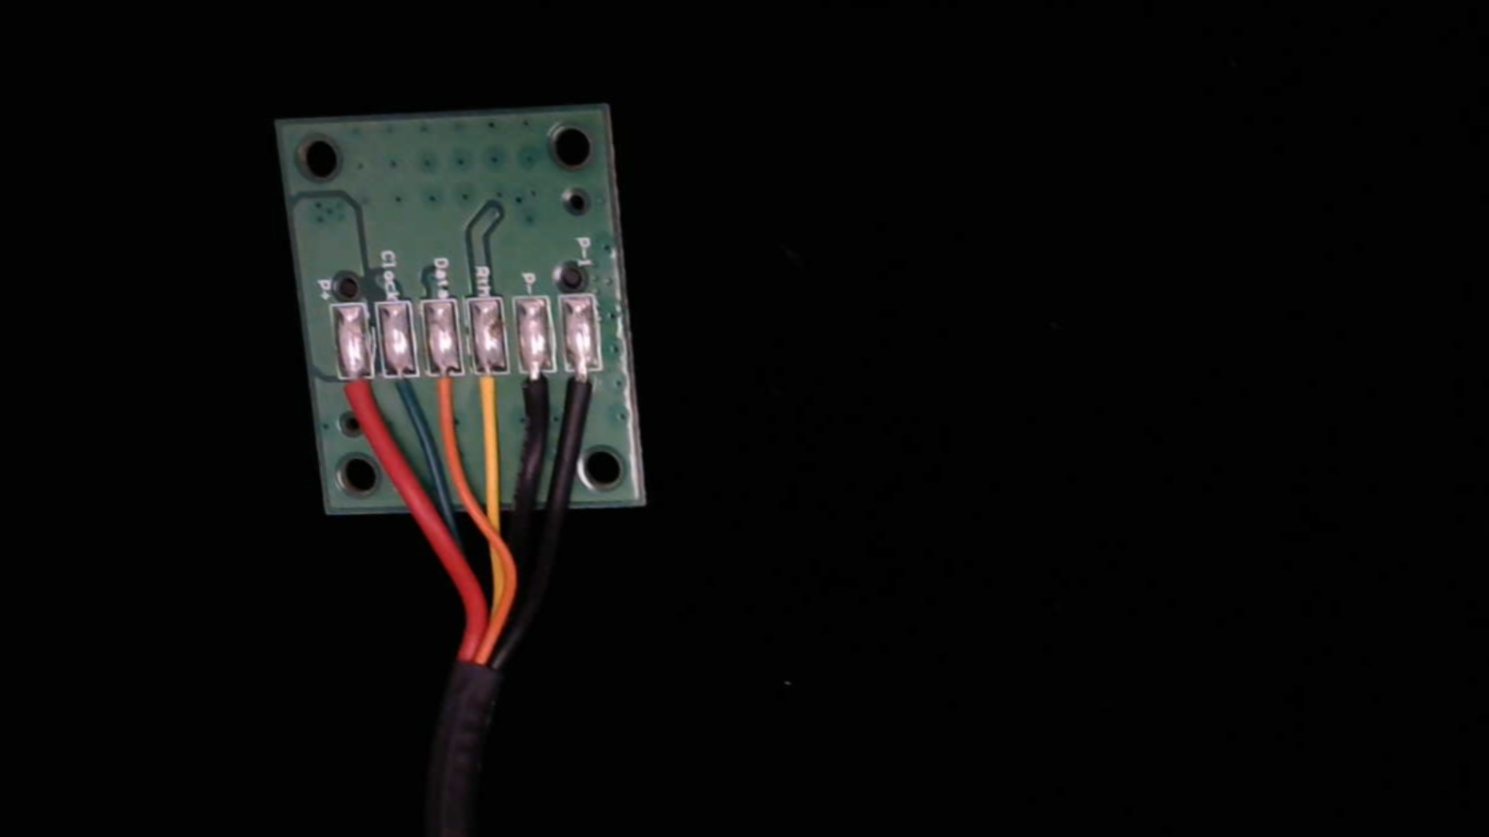Black: (517, 356, 557, 435)
Black1: (563, 354, 604, 430)
Green: (380, 358, 422, 426)
Orange: (425, 359, 464, 414)
Red: (337, 364, 379, 435)
Yellow: (466, 356, 512, 429)
